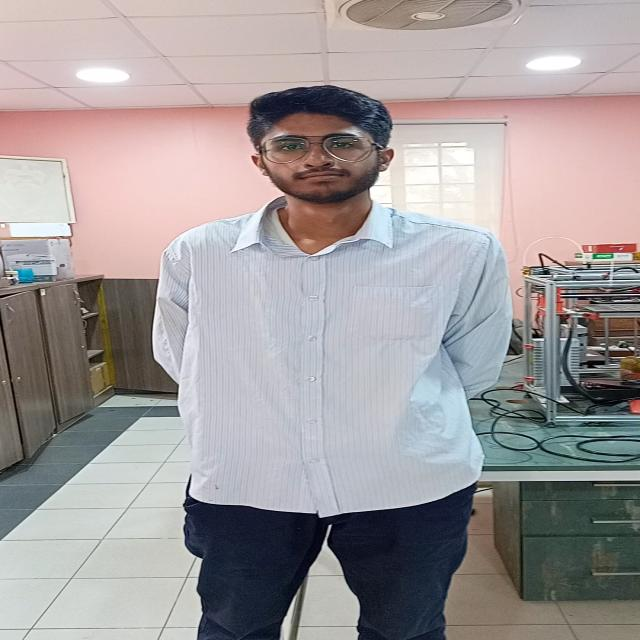dress: (146, 193, 520, 640)
glasses: (258, 134, 376, 165)
